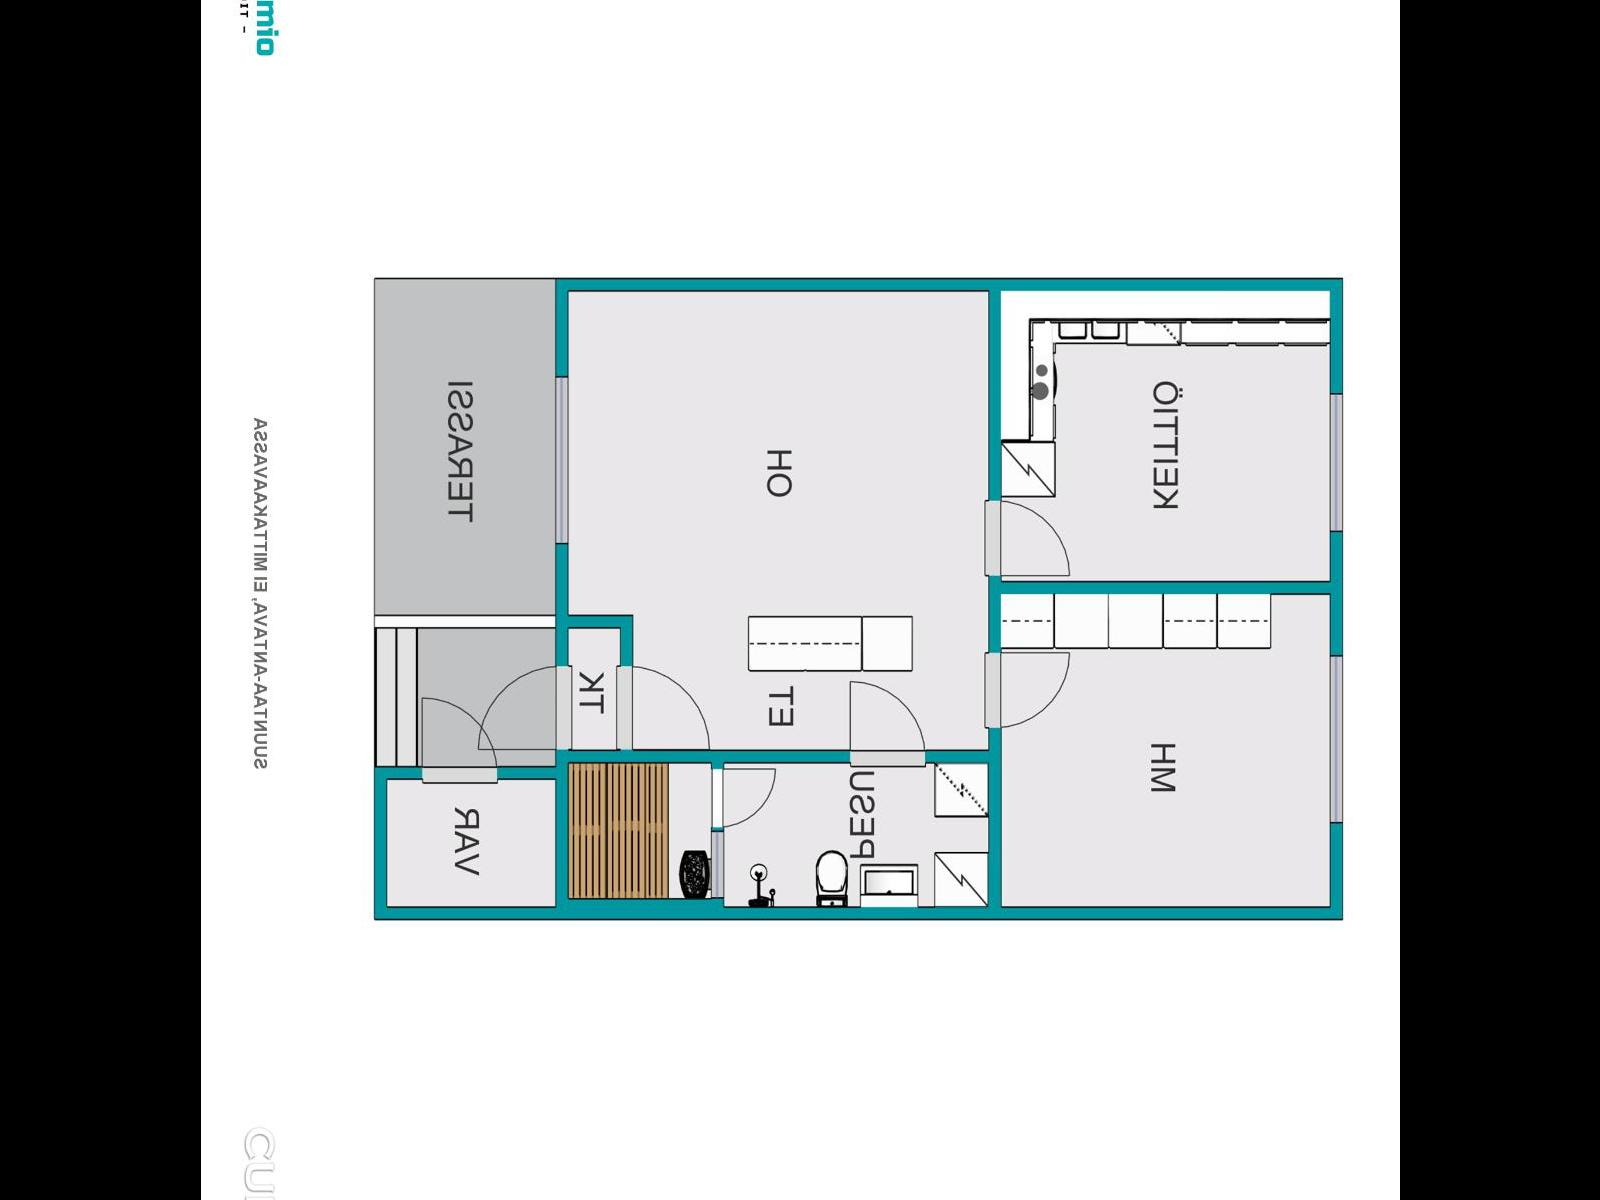bathroom: (721, 761, 986, 906)
door: (472, 661, 577, 758), (612, 661, 711, 758), (844, 681, 930, 774), (413, 693, 499, 787), (981, 494, 1071, 581), (983, 645, 1071, 732), (708, 763, 780, 829)
perimeter: (374, 274, 1348, 923)
window: (544, 364, 577, 553), (1320, 642, 1351, 836), (1317, 379, 1346, 545), (706, 817, 731, 909)
